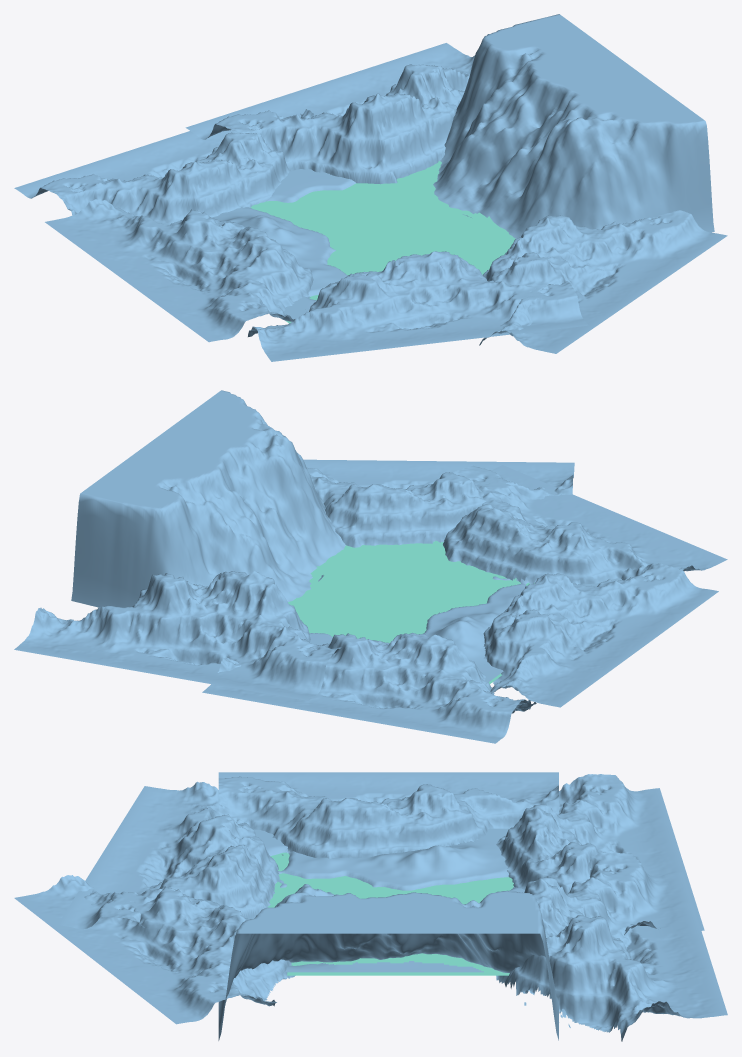
Rendered from NeptuneLandIce.glb.
3 renders of one model, top to bottom at view 1: azimuth 30°, elevation 25°; view 2: azimuth 150°, elevation 25°; view 3: azimuth 270°, elevation 25°, orthographic. The views are drawn at different scales.
Visible parts, largest first — view 1: Landscape.020, Landscape.002, Landscape.017, Landscape.004, Landscape.003, Landscape.001, Landscape_plane.001, Landscape.015; view 2: Landscape.020, Landscape.002, Landscape.017, Landscape.004, Landscape.001, Landscape.003, Landscape_plane.001, Landscape.015; view 3: Landscape.002, Landscape.017, Landscape.020, Landscape.003, Landscape.004, Landscape.001, Landscape.015, Landscape_plane.001.
Boxes of the visible parts, x1,y1,x2,y2 form: Landscape.020: [433, 14, 714, 238]; Landscape.002: [185, 43, 474, 184]; Landscape.017: [45, 199, 313, 342]; Landscape.004: [248, 251, 588, 361]; Landscape.003: [479, 210, 727, 353]; Landscape.001: [14, 109, 314, 224]; Landscape_plane.001: [250, 161, 515, 323]; Landscape.015: [156, 169, 355, 322]; Landscape.020: [71, 390, 345, 607]; Landscape.002: [14, 571, 341, 700]; Landscape.017: [483, 563, 718, 707]; Landscape.004: [443, 465, 727, 584]; Landscape.001: [202, 633, 536, 743]; Landscape.003: [303, 459, 574, 547]; Landscape_plane.001: [288, 540, 534, 683]; Landscape.015: [309, 538, 621, 684]; Landscape.002: [496, 852, 727, 1041]; Landscape.017: [218, 772, 558, 858]; Landscape.020: [218, 884, 558, 1040]; Landscape.003: [14, 875, 295, 1024]; Landscape.004: [58, 781, 283, 929]; Landscape.001: [496, 774, 704, 935]; Landscape.015: [254, 828, 524, 972]; Landscape_plane.001: [268, 852, 513, 975].
Size of the model in its own units: 3.55 by 0.9206 by 4.2.
